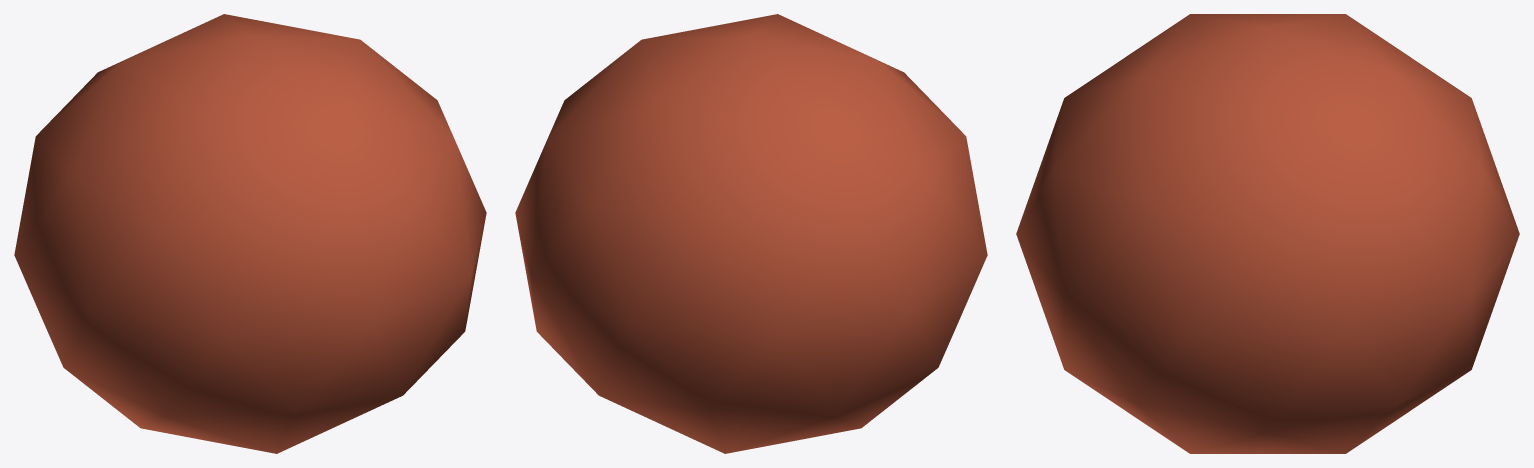
The model's file is equip_hood.glb.
3 views of the same model, side by side, from view 1: azimuth 30°, elevation 25°; view 2: azimuth 150°, elevation 25°; view 3: azimuth 270°, elevation 25° (orthographic). The views are drawn at different scales.
Visible parts, largest first — view 1: hood; view 2: hood; view 3: hood.
Part boxes in pixels (<box>): hood: <box>14,14,486,453</box>; hood: <box>515,14,987,453</box>; hood: <box>1016,14,1519,453</box>.
Bounding box in the file's own units: 0.4565 × 0.432 × 0.48.
